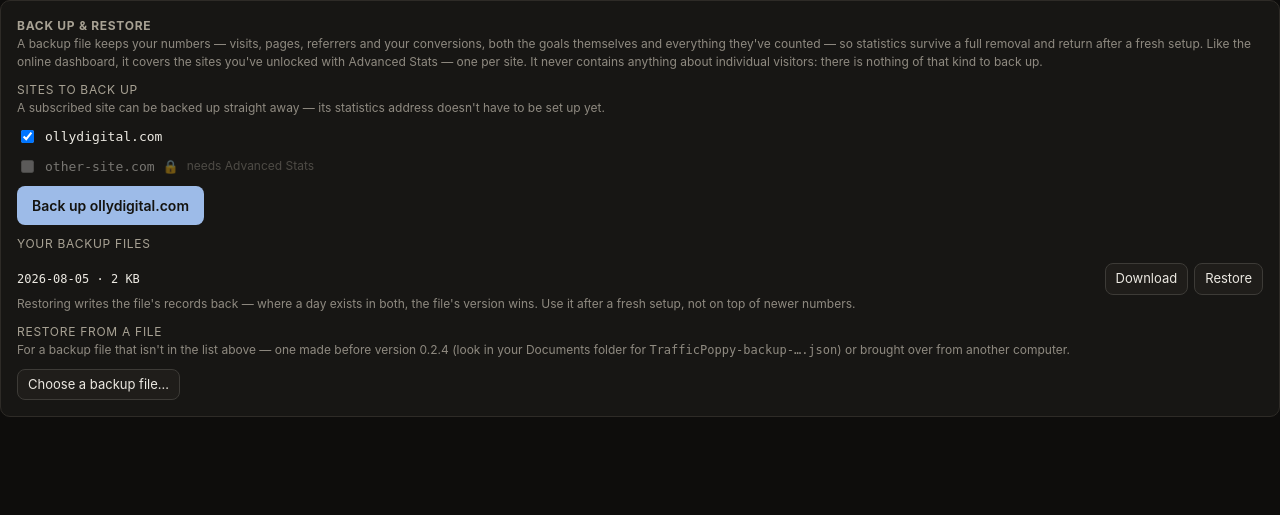
Back up & restore › says a restore merged with what was already there — one record per website
What coordinates should you click on to do the following:
click the button "Restore"
I would click on:
 (1229, 279)
Its box is [1194,263,1263,294].
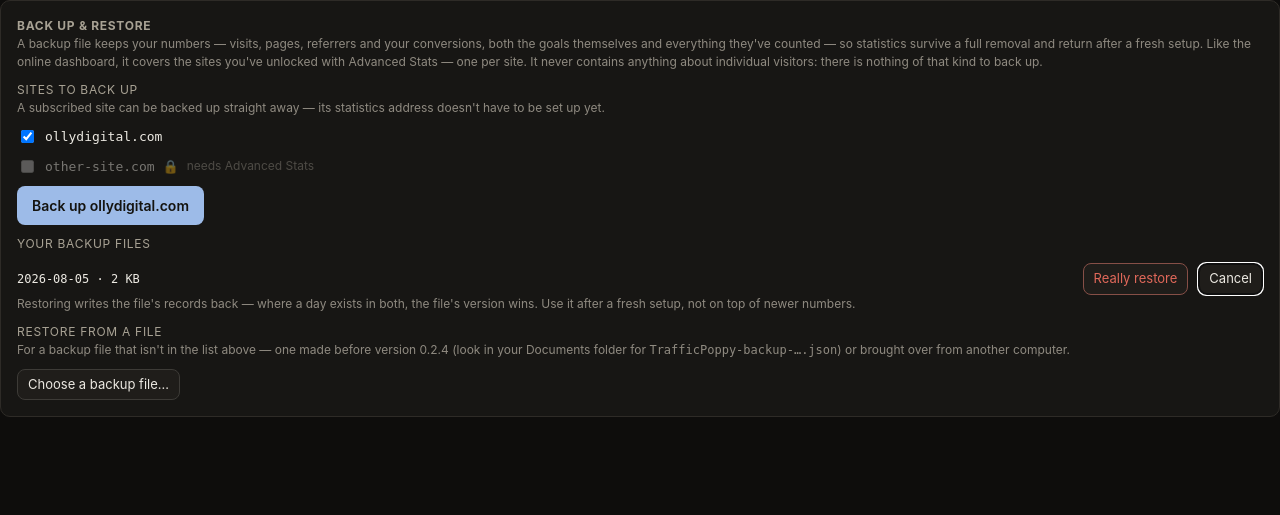
What coordinates should you click on to do the following:
click the button "Really restore"
I would click on:
 (1135, 279)
Its box is [1082,263,1188,294].
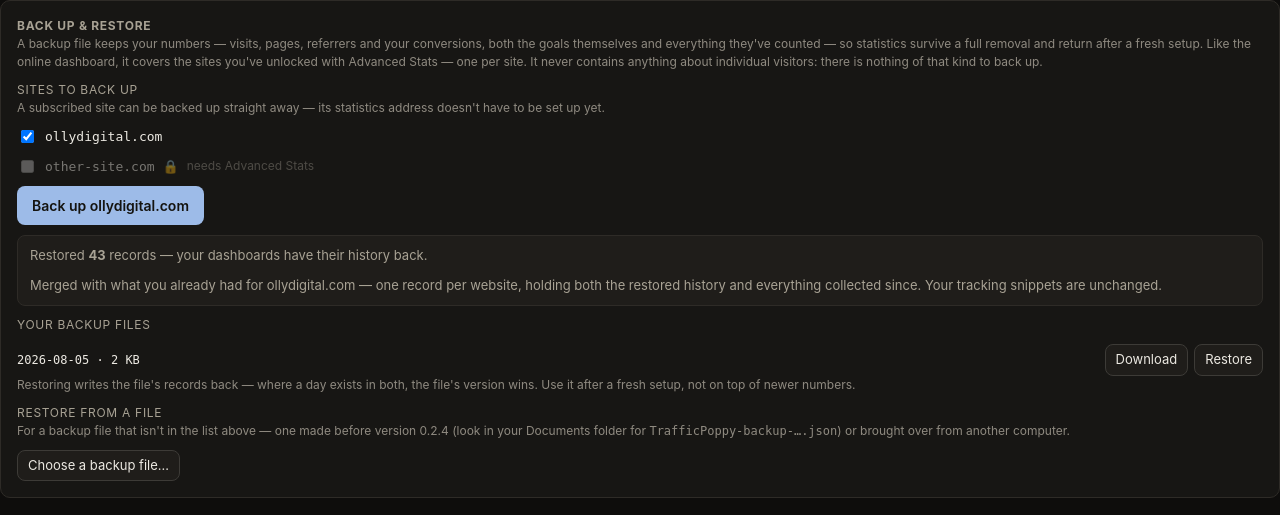
Check: the text "Merged with what you already had for ollydigital.com" is shown, box [30,276,1250,295]
Check: the text "one record per website" is shown, box [355,276,1162,292]
